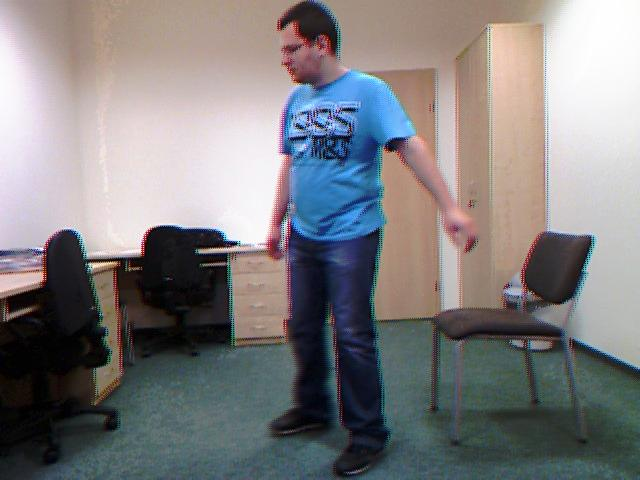walking: (253, 2, 478, 480)
